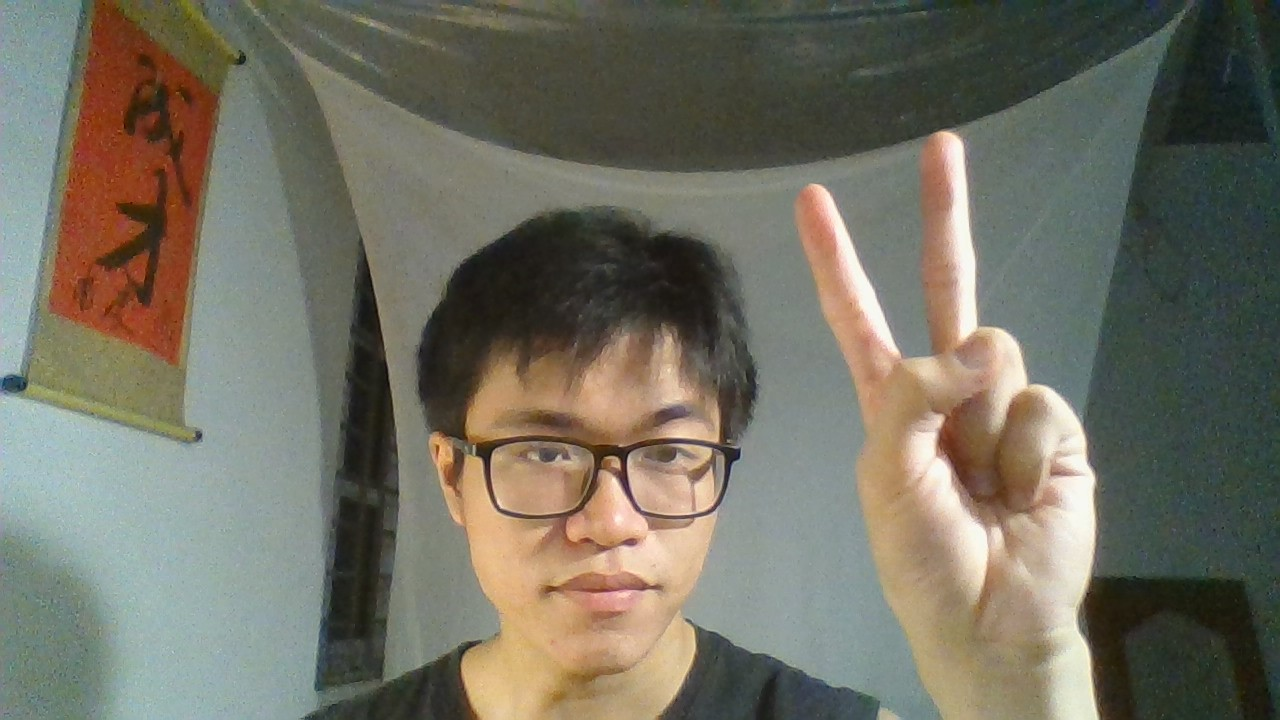v: (753, 106, 1153, 656)
